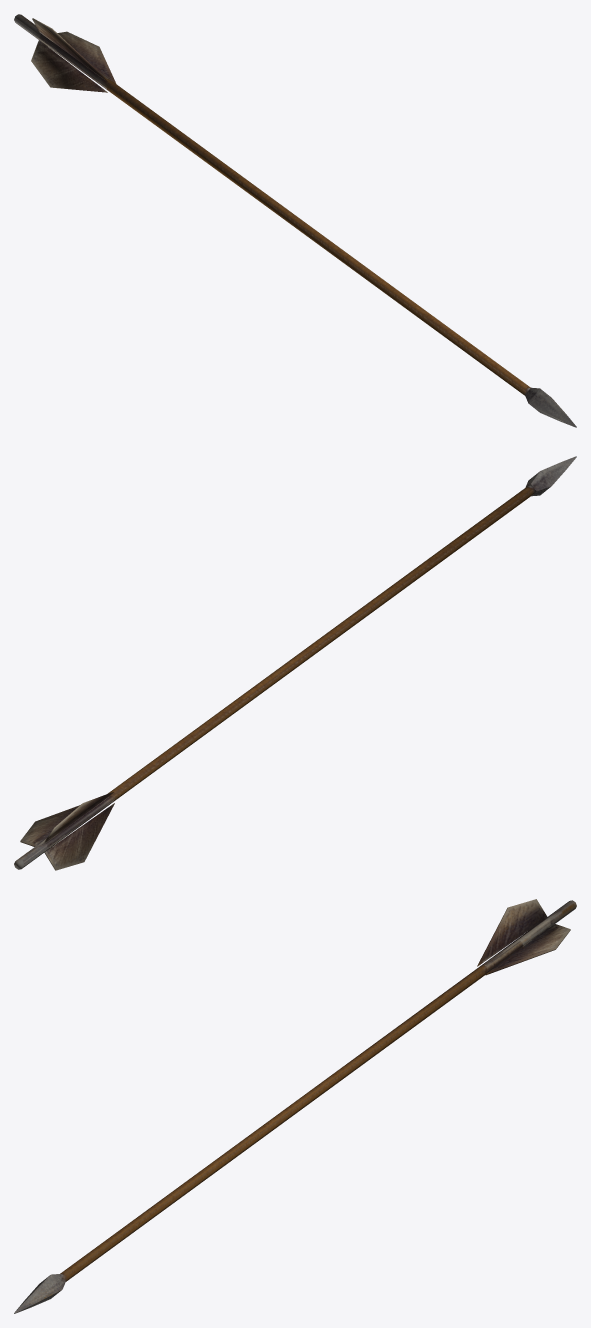
Rendered from mm6_arc1_arrow.glb.
3 renders of one model, top to bottom at view 1: azimuth 30°, elevation 25°; view 2: azimuth 150°, elevation 25°; view 3: azimuth 330°, elevation 25°, orthographic.
Parts seen in each view (by area): view 1: Arrow; view 2: Arrow; view 3: Arrow.
Boxes of the visible parts, bbox=[...] form: Arrow: bbox=[14, 14, 576, 427]; Arrow: bbox=[14, 456, 576, 870]; Arrow: bbox=[14, 899, 576, 1313].
Size of the model in its own units: 0.0411 by 0.047 by 0.8064.
1 material, 1 textured.
